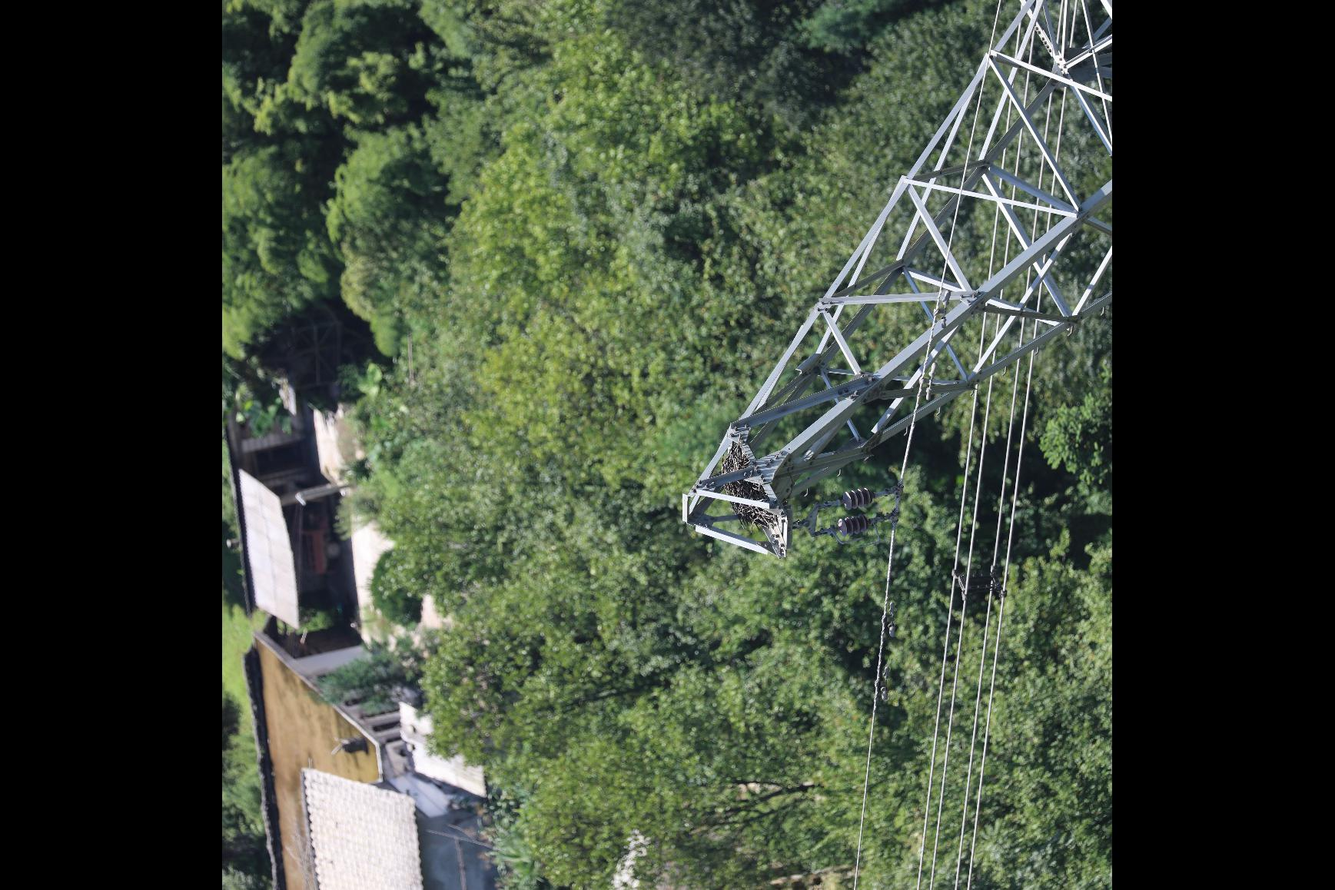damper: (916, 360, 939, 403), (932, 288, 952, 330), (873, 664, 892, 703), (882, 599, 898, 641)
nest: (719, 444, 775, 532)
